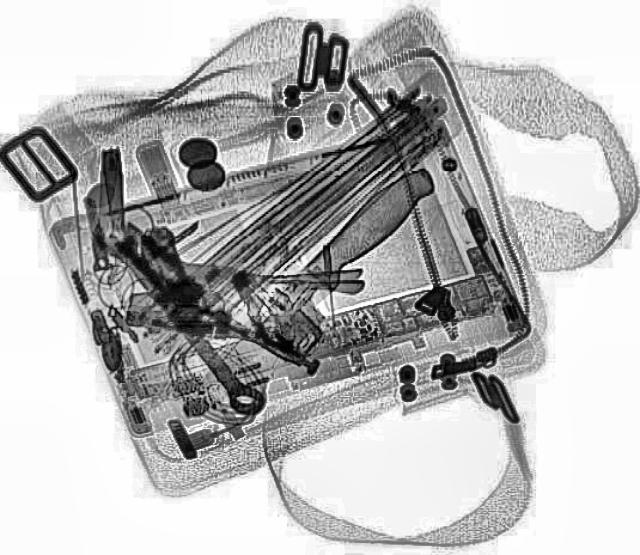Gun: (98, 220, 336, 380)
Knife: (188, 159, 444, 397)
